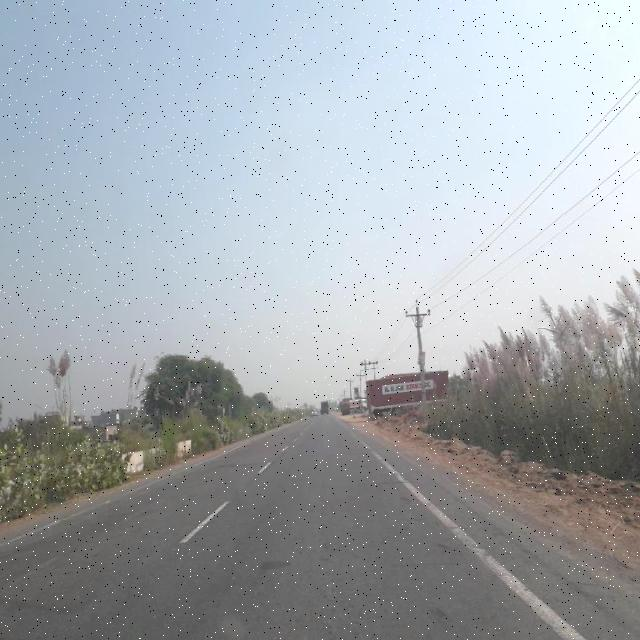D44: (469, 553, 588, 639), (409, 482, 470, 541)
